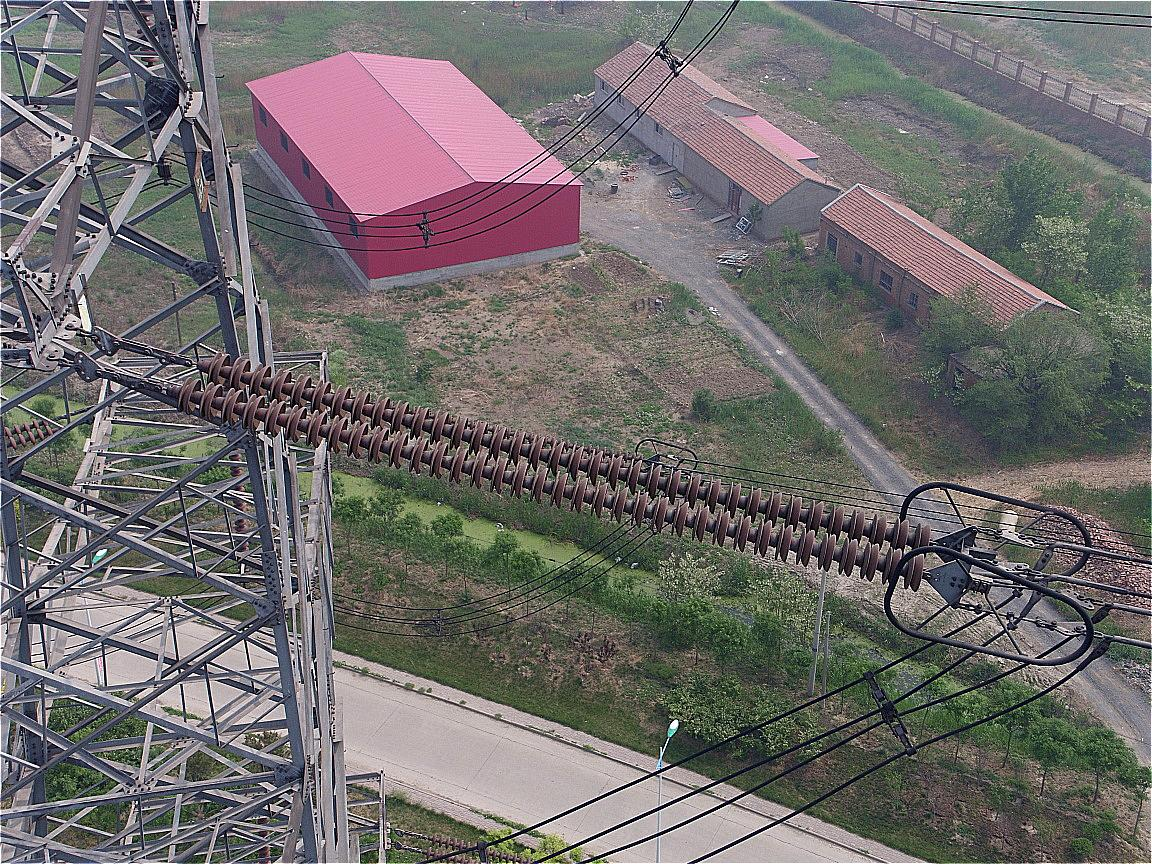insultor2: (176, 348, 933, 592)
